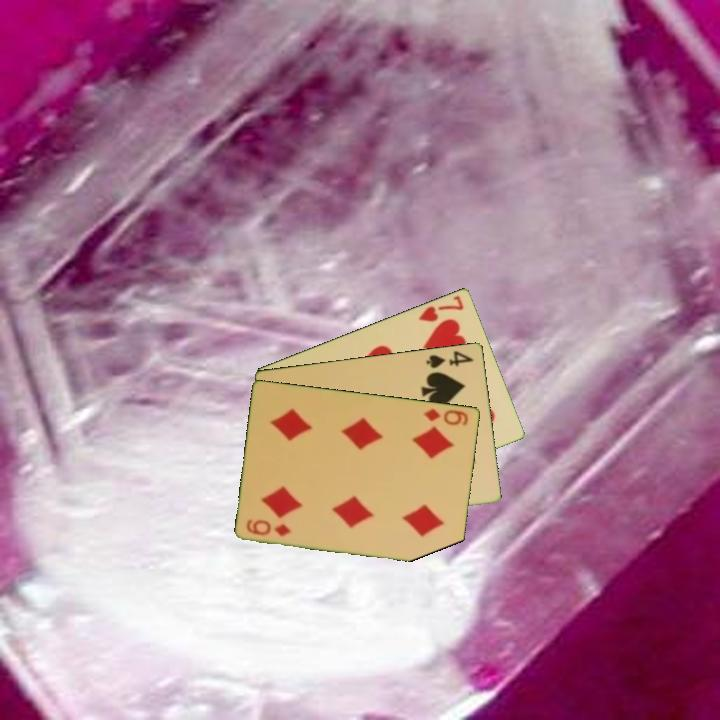4s: (423, 347, 477, 371)
6d: (243, 515, 294, 539), (421, 404, 471, 428)
7h: (415, 292, 467, 325)
